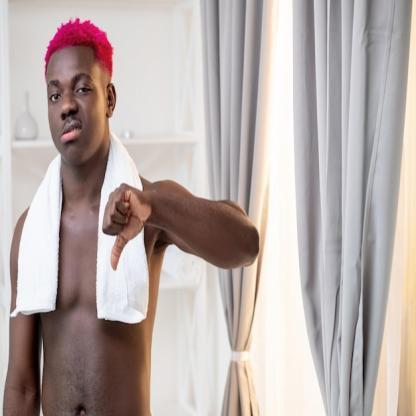thumb_down: (98, 180, 148, 274)
